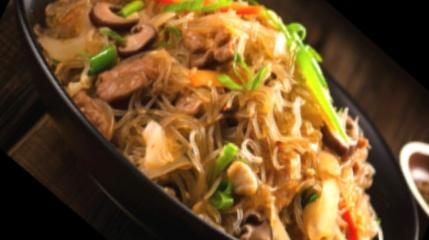pancit bihon: (43, 0, 380, 239)
